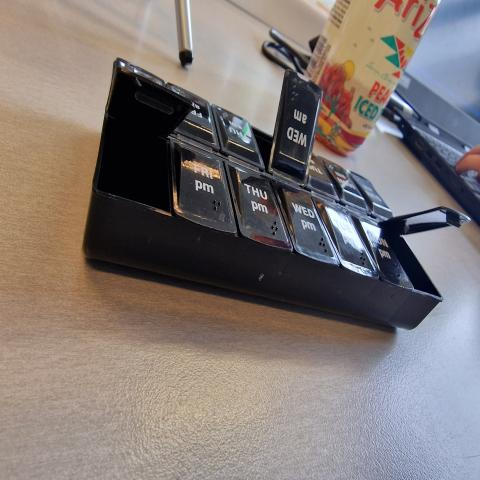Open: (94, 66, 195, 217), (380, 207, 469, 297), (252, 126, 275, 171)
